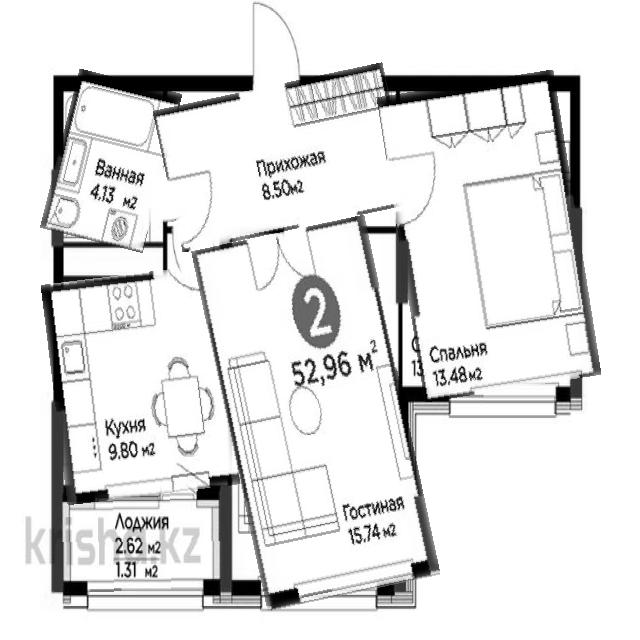balcony: (55, 491, 229, 592)
bathroom: (49, 74, 173, 248)
hallway: (159, 74, 406, 241)
kitchen: (48, 269, 234, 501)
living_room: (209, 222, 422, 604), (387, 75, 590, 396)
